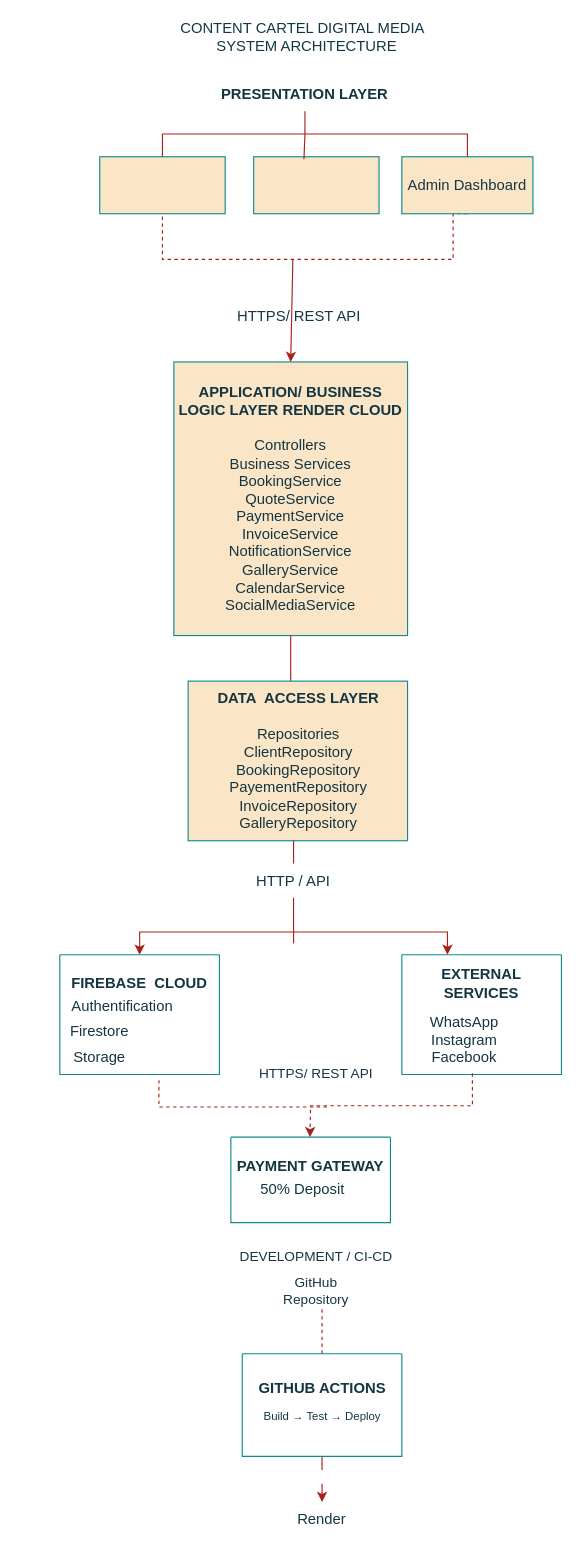
Some shapes in this 581 by 1556 pixel diagram are drawn without their labels. The centre of each missing label's shape, as x and y in pixels:
Mobile App Kotlin: the point at 316,185
Web Applicattion HTML/CSS/JS: the point at 162,185
